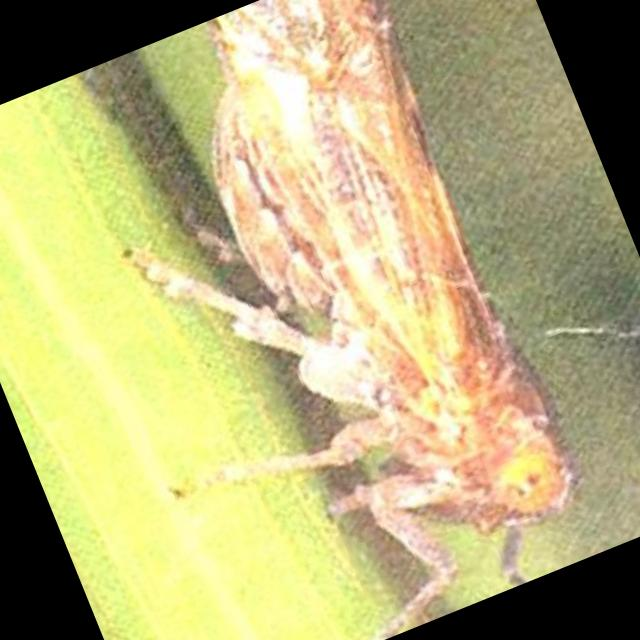brown-planthopper: (156, 0, 607, 593)
